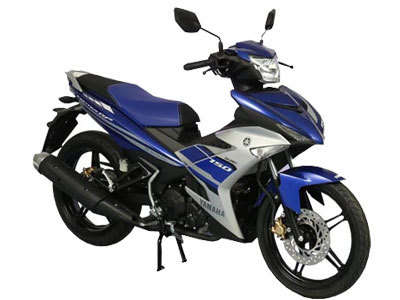motorcycle: (44, 37, 368, 297)
